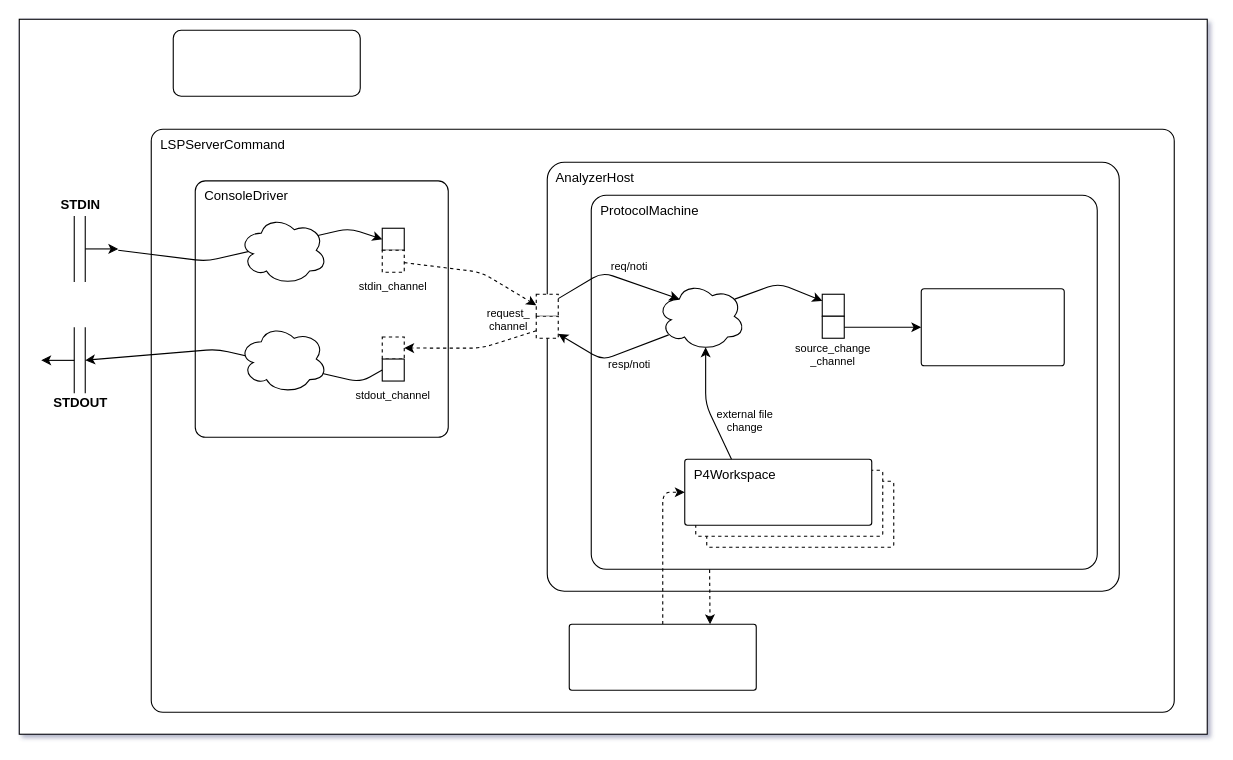
Some shapes in this 1233 by 760 pixel diagram are drawn without their labels. Here are the shapes that lost their labels. From the top down, the centre of each, then its label:
At point 266,62: "CommandTracingSubscriber".
At point 992,327: "Analyzer".
At point 662,656: "P4WorkspaceFactory".
